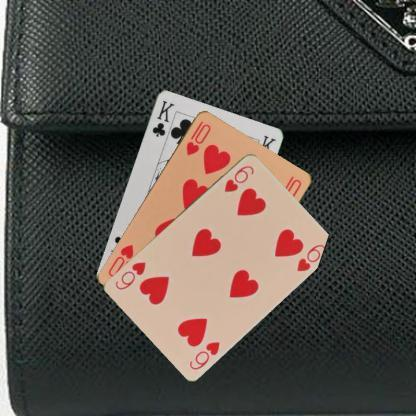10h: (183, 118, 212, 156)
6h: (186, 338, 221, 372), (222, 162, 256, 193)
Kc: (149, 98, 176, 138)
